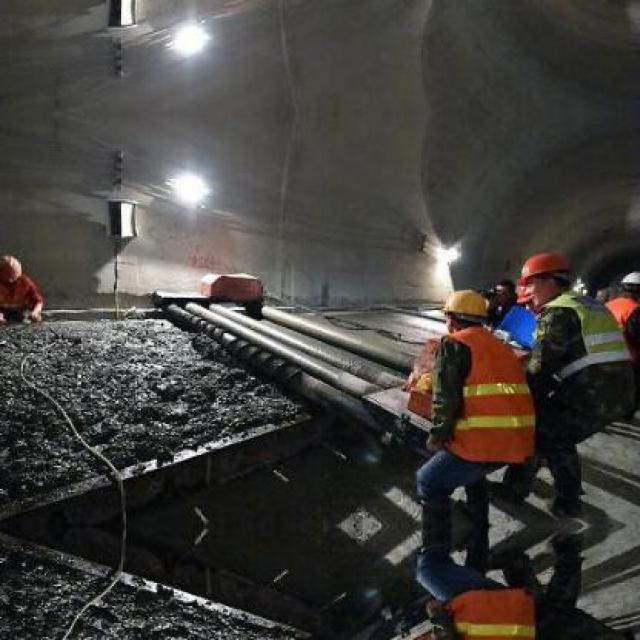Reflective-Jacket: (429, 332, 548, 478), (536, 293, 638, 387), (598, 292, 640, 368), (0, 279, 42, 327)
Safety-Helmet: (511, 242, 582, 290), (432, 281, 497, 330), (615, 265, 640, 298), (0, 251, 25, 278)
